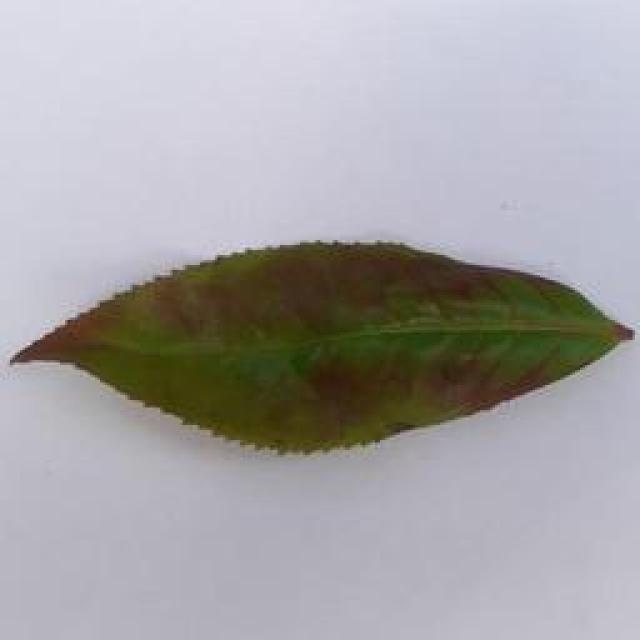Red Leaf Spot: (2, 233, 640, 445)
